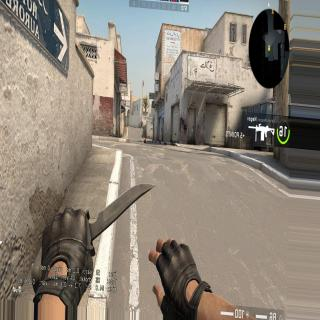CT-Body: (140, 120, 143, 130)
CT-Head: (141, 120, 142, 122)
